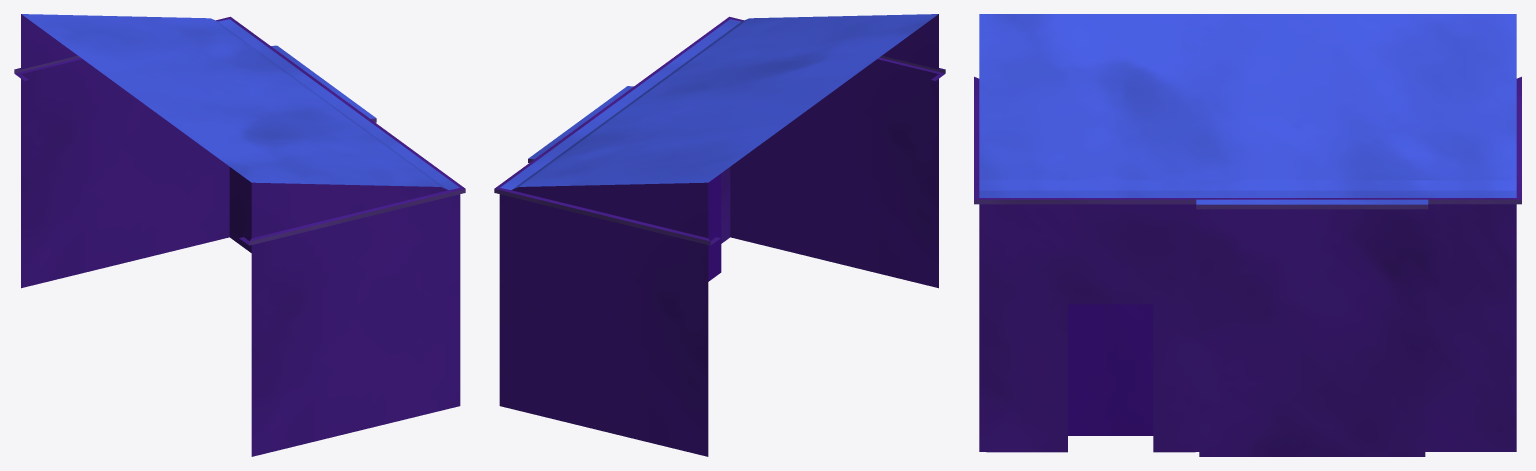
Rendered from SM_Building_C.fbx.
The picture shows the model from 3 angles, left to right: view 1: azimuth 30°, elevation 25°; view 2: azimuth 150°, elevation 25°; view 3: azimuth 270°, elevation 25°; orthographic projection. The views are drawn at different scales.
Parts seen in each view (by area): view 1: building_C; view 2: building_C; view 3: building_C.
Part boxes in pixels (x1,y1,x2,y2): building_C: [14, 14, 465, 456]; building_C: [494, 14, 945, 456]; building_C: [974, 14, 1521, 456].
Size of the model in its own units: 11.76 by 13.87 by 21.47.
